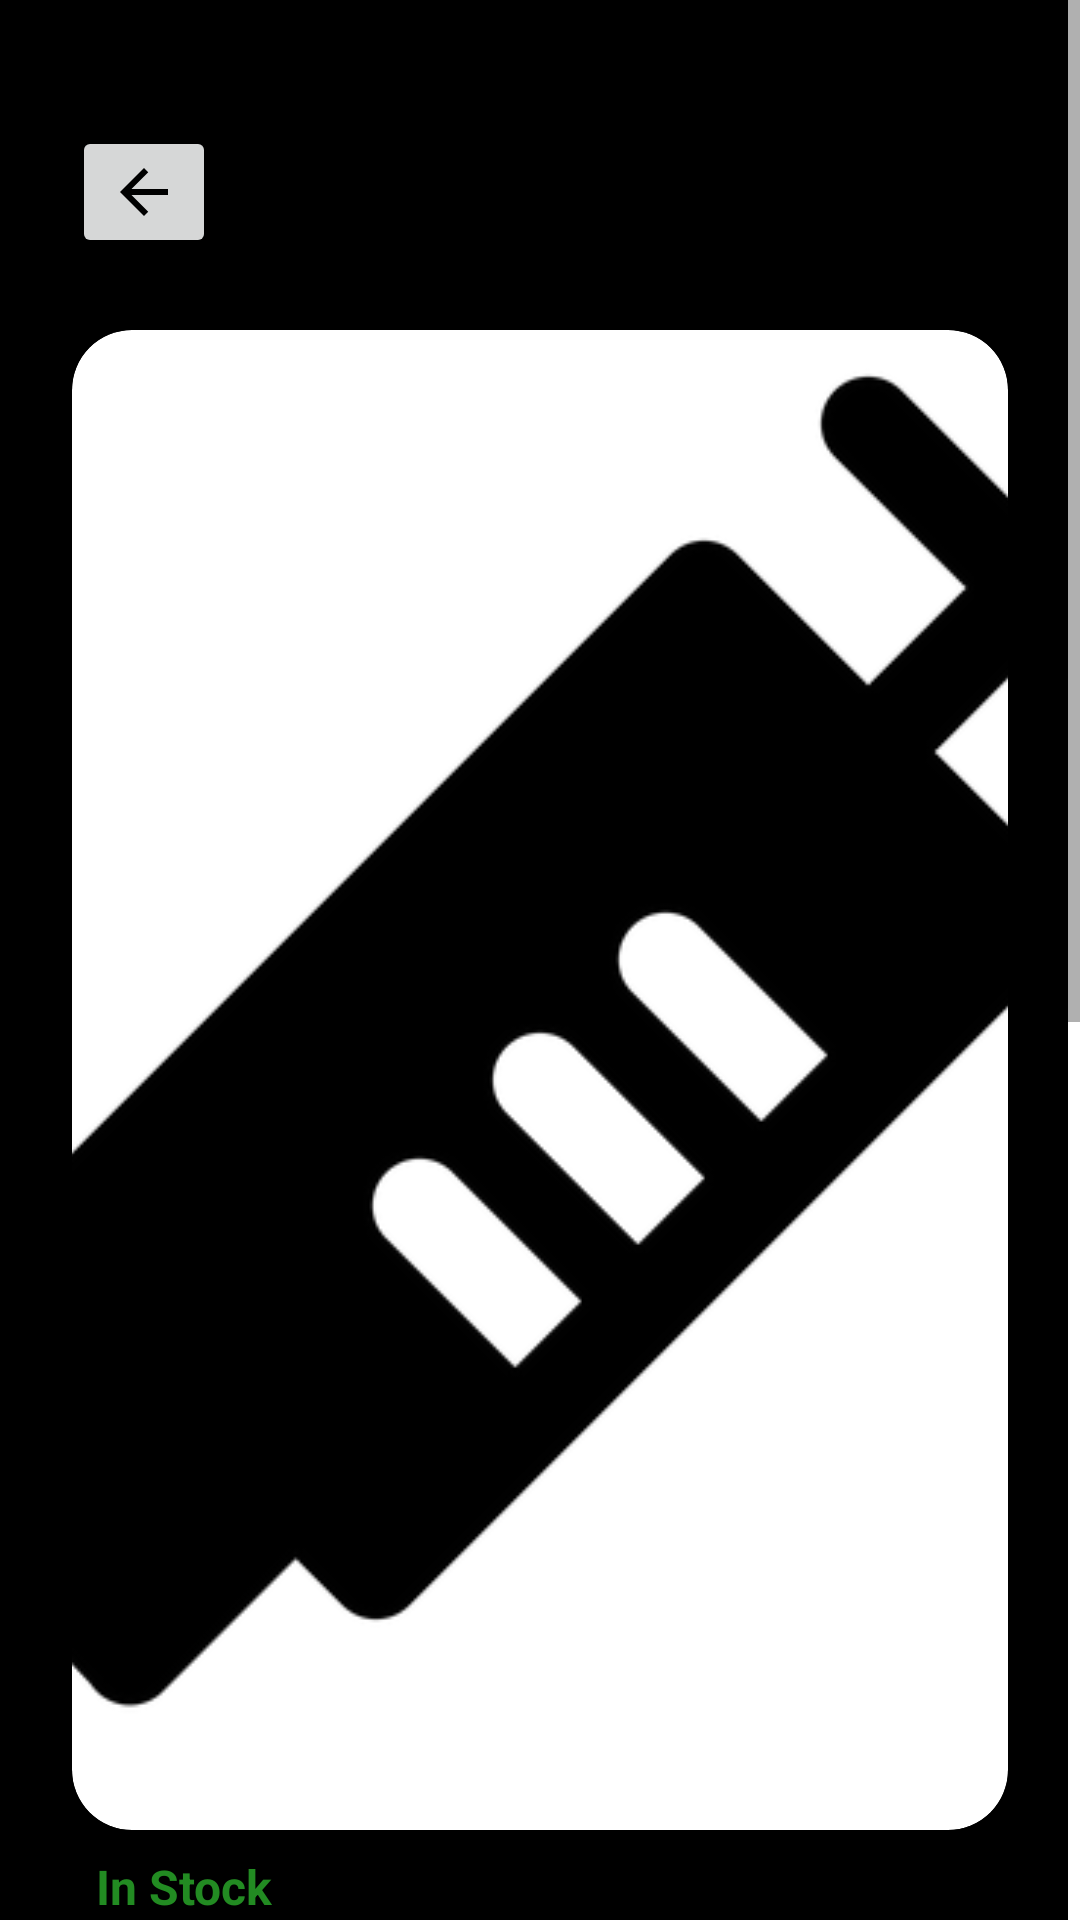

Where to tap for icons on this 1080px x 1920px app screen, as (x=x, y=y):
backarrow: (x=144, y=192)
